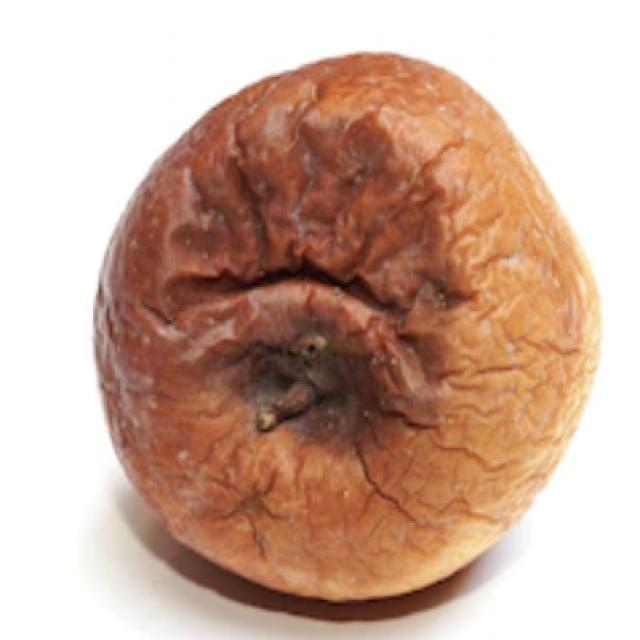Rotten: (140, 50, 593, 607)
